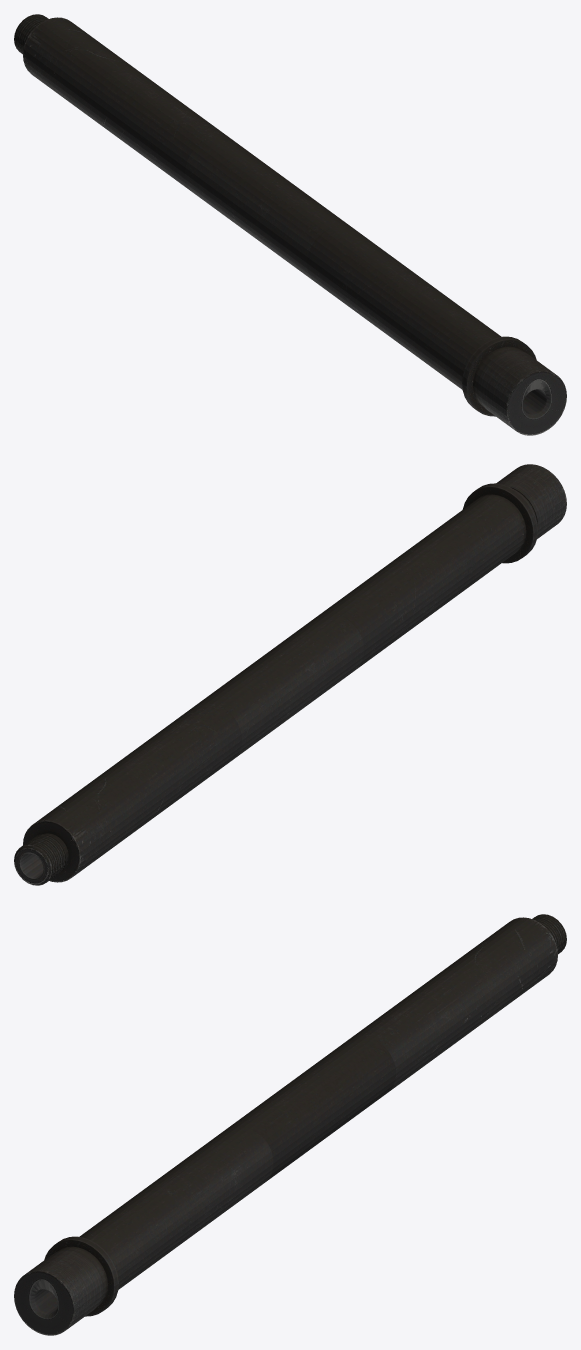
3 views of the same model, one above another, from view 1: azimuth 30°, elevation 25°; view 2: azimuth 150°, elevation 25°; view 3: azimuth 330°, elevation 25° (orthographic).
Parts seen in each view (by area): view 1: TW_603372f153a60014f970616d_PZ_Import; view 2: TW_603372f153a60014f970616d_PZ_Import; view 3: TW_603372f153a60014f970616d_PZ_Import.
Part boxes in pixels (x1,y1,x2,y2): TW_603372f153a60014f970616d_PZ_Import: (14, 14, 566, 435); TW_603372f153a60014f970616d_PZ_Import: (14, 464, 566, 885); TW_603372f153a60014f970616d_PZ_Import: (14, 914, 566, 1335).
Size of the model in its own units: 0.0173 by 0.2124 by 0.0173.
1 material, 1 textured.
